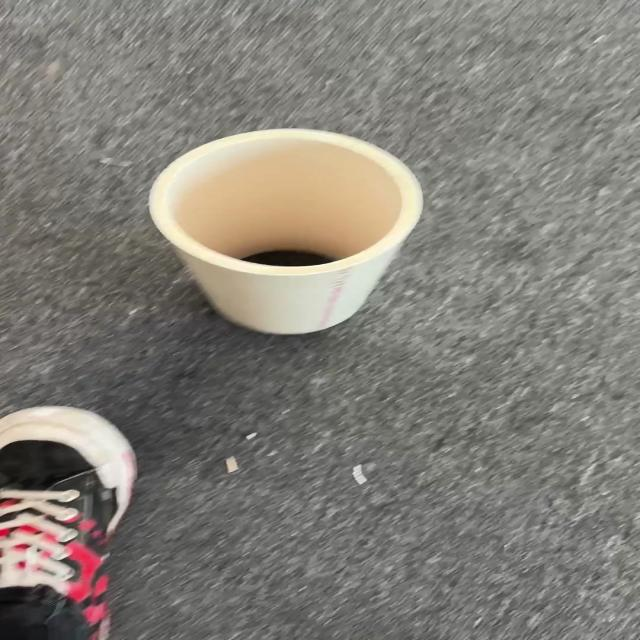Coral: (146, 127, 425, 336)
